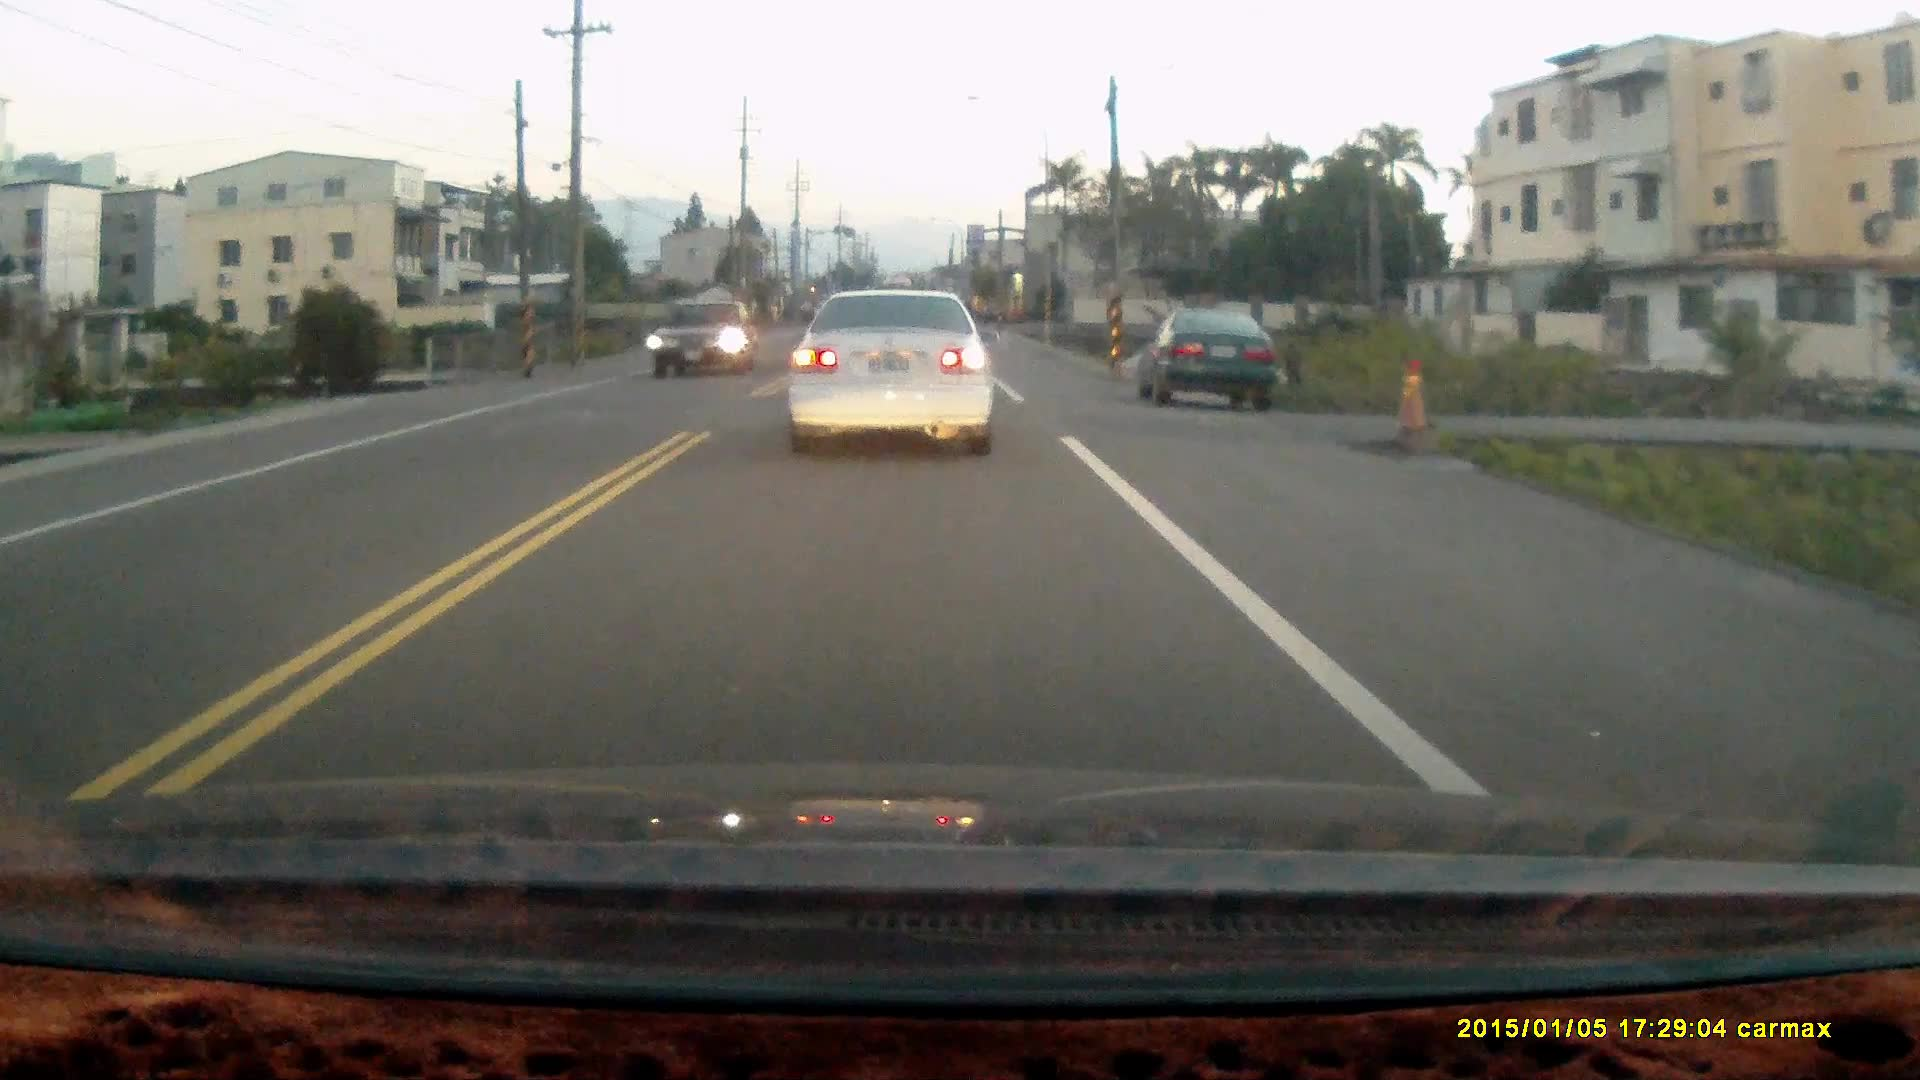pedestrian: (1280, 338, 1301, 388)
vehicle: (783, 284, 1000, 458), (1148, 306, 1289, 413), (647, 293, 757, 375)
